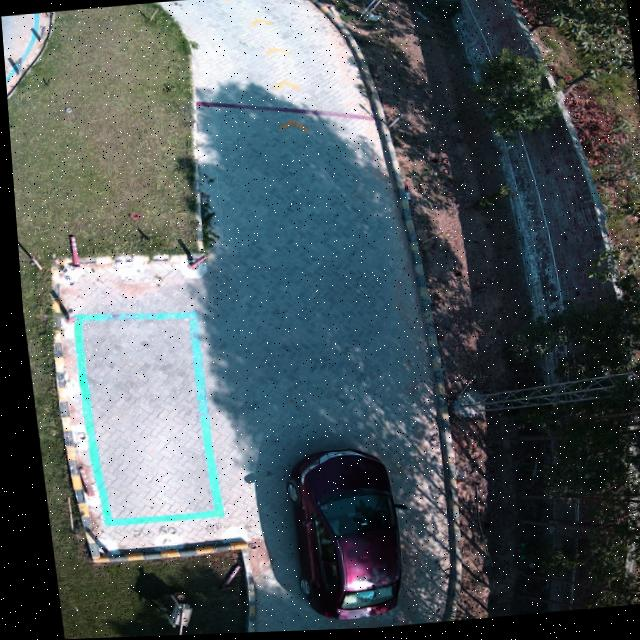car: (279, 451, 392, 622)
